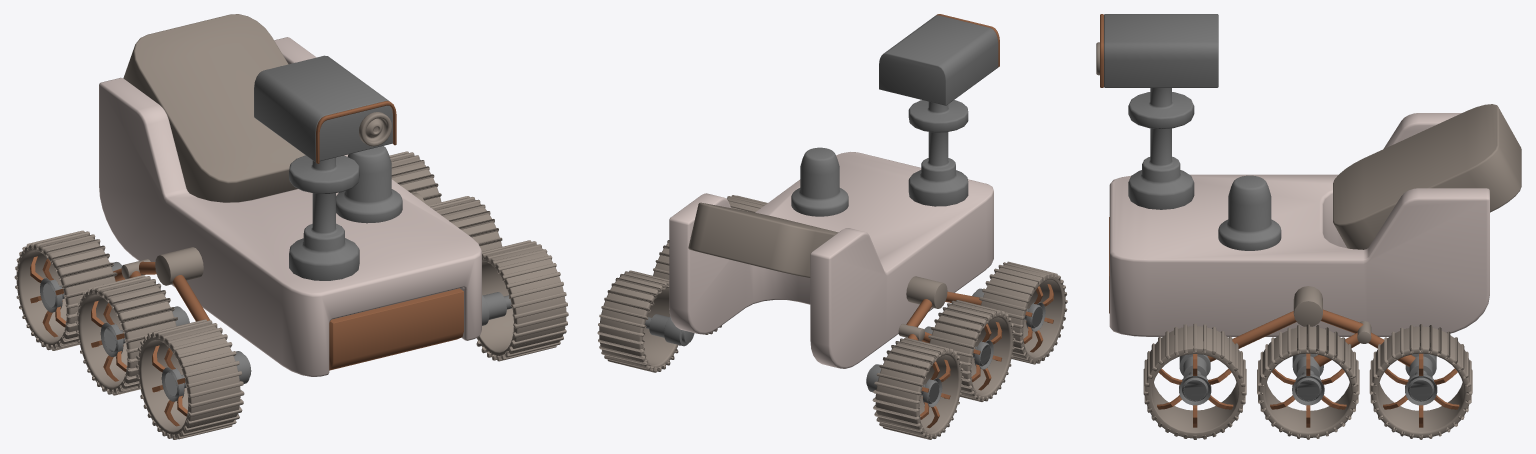
Rendered from Rover.gltf.
3 renders of one model, left to right at view 1: azimuth 30°, elevation 25°; view 2: azimuth 150°, elevation 25°; view 3: azimuth 270°, elevation 25°, orthographic. The views are drawn at different scales.
Parts seen in each view (by area): view 1: Plane, Plane.002, Circle.010, Plane.001, Circle.011, Cube.002, Circle.001, Circle.008, Circle.003, Circle.013, Circle.002, Circle.009 (+10 smaller); view 2: Plane, Circle.008, Plane.001, Plane.002, Circle.009, Circle.003, Circle.001, Circle.010, Circle.013, Circle.011, Circle.002, Circle.012 (+7 smaller); view 3: Plane, Plane.002, Plane.001, Circle.003, Circle.008, Circle.010, Circle.001, Circle.013, Circle.011, Circle.009, Circle.002, Circle.006 (+8 smaller).
Boxes of the visible parts, bbox=[...] form: Plane: bbox=[99, 37, 481, 376]; Plane.002: bbox=[123, 14, 305, 202]; Circle.010: bbox=[138, 242, 566, 438]; Plane.001: bbox=[254, 55, 392, 162]; Circle.011: bbox=[136, 240, 568, 439]; Cube.002: bbox=[329, 288, 463, 370]; Circle.001: bbox=[77, 197, 502, 393]; Circle.008: bbox=[16, 153, 441, 349]; Circle.003: bbox=[289, 155, 359, 280]; Circle.013: bbox=[336, 146, 402, 223]; Circle.002: bbox=[75, 196, 502, 395]; Circle.009: bbox=[14, 151, 441, 350]; Plane: bbox=[669, 152, 993, 368]; Circle.008: bbox=[599, 272, 961, 438]; Plane.001: bbox=[879, 15, 998, 105]; Plane.002: bbox=[688, 202, 838, 277]; Circle.009: bbox=[597, 270, 963, 439]; Circle.003: bbox=[908, 100, 968, 206]; Circle.001: bbox=[653, 242, 1013, 400]; Circle.010: bbox=[727, 196, 1065, 362]; Circle.013: bbox=[791, 147, 848, 216]; Circle.011: bbox=[727, 195, 1067, 364]; Circle.002: bbox=[653, 240, 1015, 401]; Circle.012: bbox=[645, 314, 942, 407]; Plane: bbox=[1109, 113, 1489, 336]; Plane.002: bbox=[1333, 104, 1521, 249]; Plane.001: bbox=[1104, 14, 1218, 87]; Circle.003: bbox=[1128, 88, 1194, 209]; Circle.008: bbox=[1371, 326, 1471, 437]; Circle.010: bbox=[1145, 326, 1244, 438]; Circle.001: bbox=[1258, 326, 1358, 437]; Circle.013: bbox=[1218, 175, 1281, 250]; Circle.011: bbox=[1143, 323, 1246, 439]; Circle.009: bbox=[1369, 324, 1472, 439]; Circle.002: bbox=[1257, 324, 1359, 439]; Circle.006: bbox=[1179, 354, 1211, 405].
Size of the model in its own units: 3.97 by 3.3 by 4.16.
